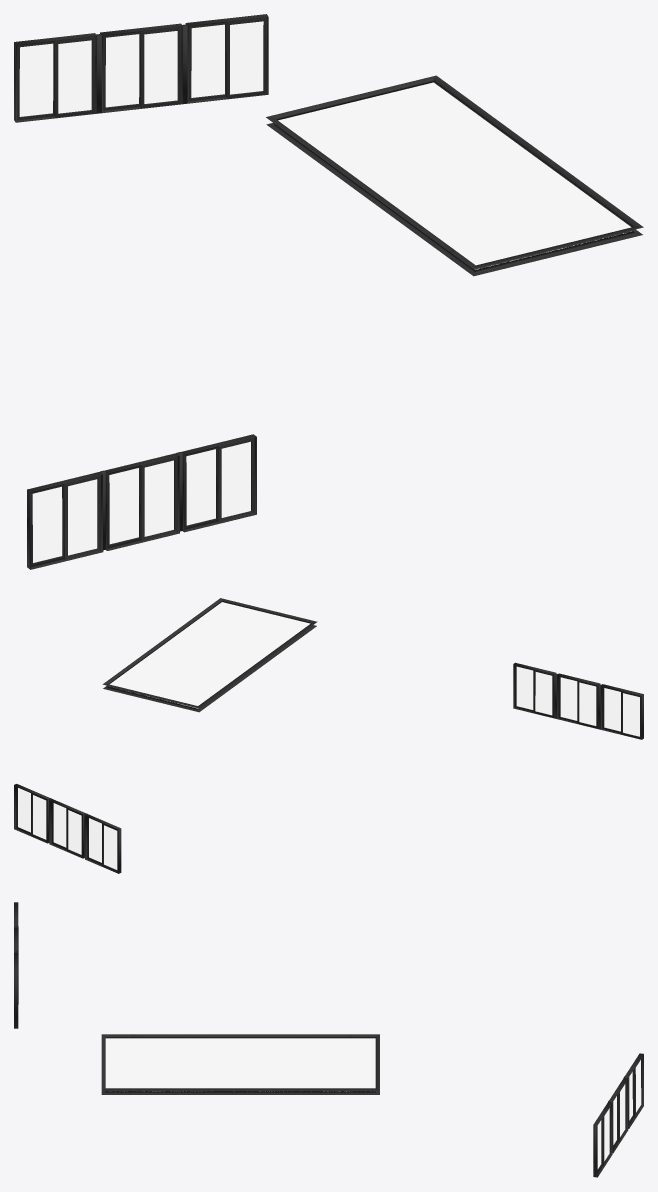
File: InfissiMuseoV1.glb
The picture shows the model from 3 angles, top to bottom: view 1: azimuth 30°, elevation 25°; view 2: azimuth 150°, elevation 25°; view 3: azimuth 270°, elevation 25°; orthographic projection. The views are drawn at different scales.
Visible parts, largest first — view 1: VetroTetto, InfissiTetto, Vetro3.001, Vetro.001, Vetro2.001, Vetro5.001, Vetro6.001, Vetro4.001, Vetro6, Vetro2, Vetro5, Vetro (+14 smaller); view 2: VetroTetto, InfissiTetto, Vetro3, Vetro2, Vetro4, Vetro, Vetro5, Vetro6, Vetro.001, Vetro3.001, Vetro4.001, Vetro5.001 (+4 smaller); view 3: VetroTetto, InfissiTetto, Window railing3.001.
Part boxes in pixels (left/top/right/bottom): VetroTetto: left=278, top=82, right=634, bottom=269; InfissiTetto: left=266, top=75, right=643, bottom=276; Vetro3.001: left=105, top=34, right=139, bottom=107; Vetro.001: left=19, top=43, right=53, bottom=116; Vetro2.001: left=58, top=40, right=91, bottom=113; Vetro5.001: left=191, top=24, right=224, bottom=97; Vetro6.001: left=230, top=21, right=263, bottom=94; Vetro4.001: left=144, top=31, right=177, bottom=103; Vetro6: left=32, top=486, right=62, bottom=562; Vetro2: left=186, top=449, right=215, bottom=525; Vetro5: left=68, top=479, right=97, bottom=555; Vetro: left=221, top=441, right=250, bottom=517; VetroTetto: left=109, top=602, right=310, bottom=708; InfissiTetto: left=102, top=598, right=317, bottom=712; Vetro3: left=560, top=677, right=577, bottom=720; Vetro2: left=535, top=672, right=552, bottom=715; Vetro4: left=579, top=682, right=596, bottom=725; Vetro: left=516, top=666, right=533, bottom=709; Vetro5: left=604, top=688, right=620, bottom=731; Vetro6: left=623, top=693, right=639, bottom=736; Vetro.001: left=104, top=825, right=117, bottom=869; Vetro3.001: left=68, top=810, right=81, bottom=854; Vetro4.001: left=53, top=803, right=66, bottom=847; Vetro5.001: left=33, top=795, right=46, bottom=839; VetroTetto: left=105, top=1038, right=375, bottom=1091; InfissiTetto: left=101, top=1034, right=379, bottom=1094; Window railing3.001: left=593, top=1102, right=612, bottom=1177.
Bounding box in the file's own units: 40.02 × 7.53 × 47.97.
Materials: 4 (3 with a texture image).
